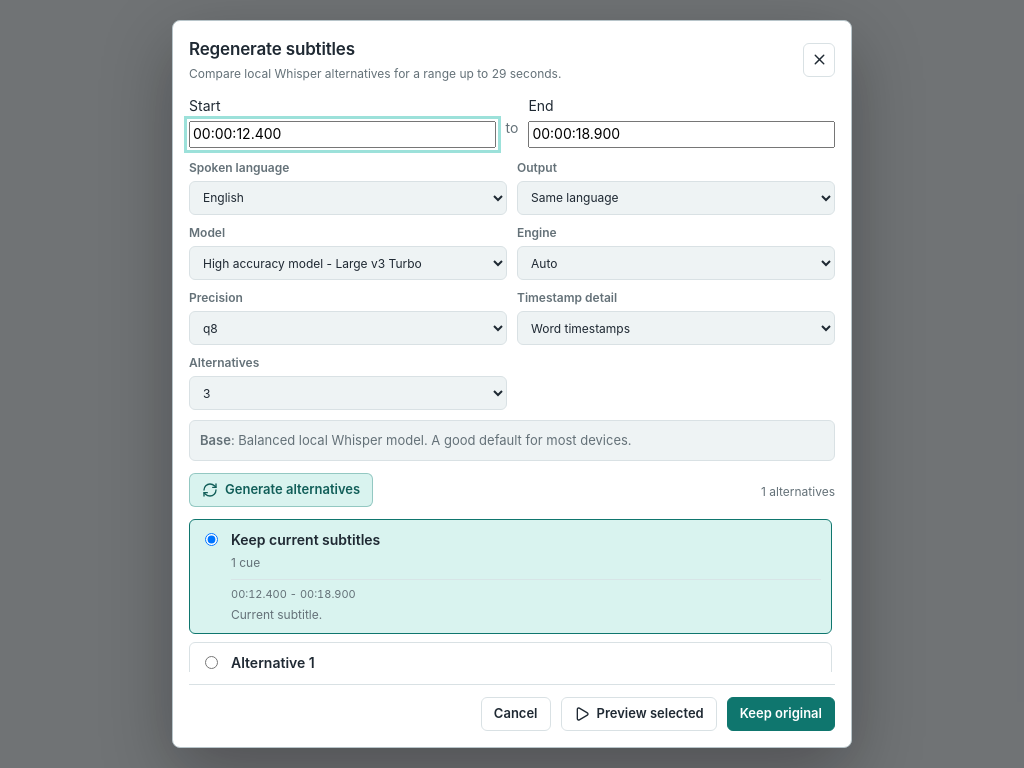
Test: RegenerationDialog › keeps changed settings session-local and invalidates displayed candidates
The image size is (1024, 768).
Select "High accuracy model - Large v3 Turbo" in the dropdown labelled "Model" at (348, 263), box [189, 246, 507, 280]
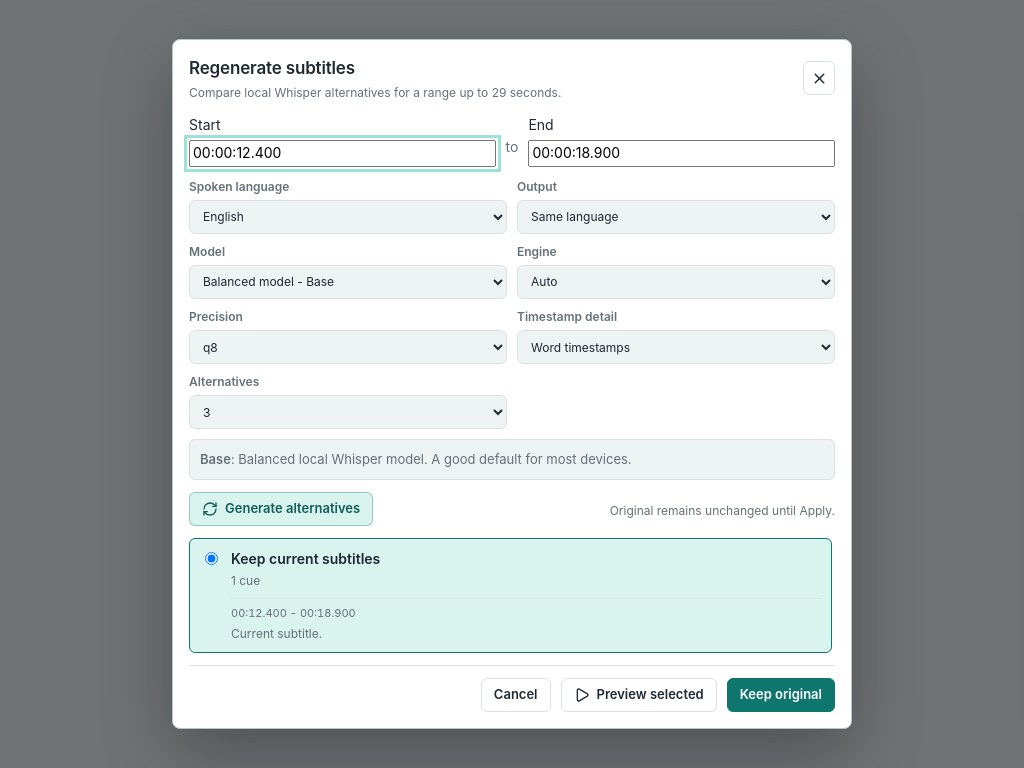
Now the text "Alternative 1" is gone
